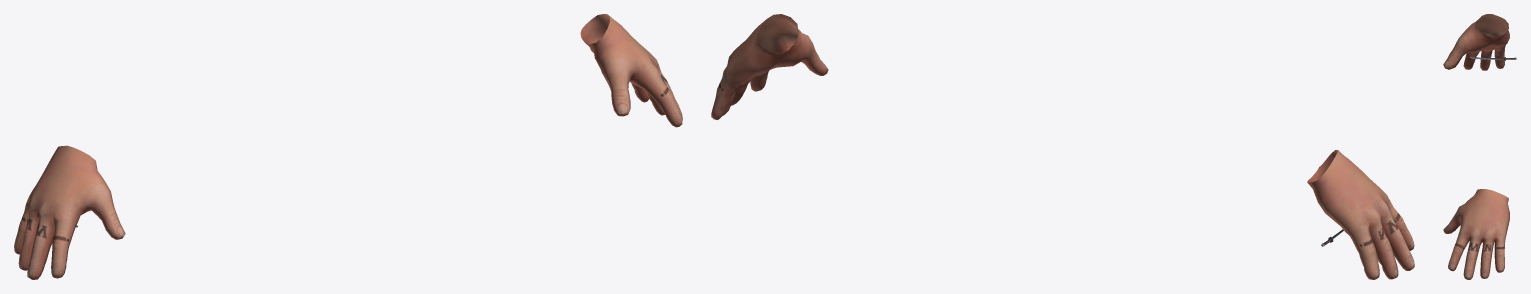
The model's file is Model012_weapons.glb.
The picture shows the model from 3 angles, left to right: view 1: azimuth 30°, elevation 25°; view 2: azimuth 150°, elevation 25°; view 3: azimuth 270°, elevation 25°; orthographic projection. The views are drawn at different scales.
Visible parts, largest first — view 1: 0088_Model012_6_LM-sword02_0.1_16_16_material0088_0; view 2: 0088_Model012_6_LM-sword02_0.1_16_16_material0088_0; view 3: 0088_Model012_6_LM-sword02_0.1_16_16_material0088_0, 0087_Model012_6_LM-sword02_0.1_16_16_material0087_0.
Part boxes in pixels (x1,y1,x2,y2): 0088_Model012_6_LM-sword02_0.1_16_16_material0088_0: (14, 14, 682, 279); 0088_Model012_6_LM-sword02_0.1_16_16_material0088_0: (711, 14, 1414, 279); 0088_Model012_6_LM-sword02_0.1_16_16_material0088_0: (1443, 14, 1509, 279); 0087_Model012_6_LM-sword02_0.1_16_16_material0087_0: (1470, 56, 1516, 60).
Size of the model in its own units: 1.38 by 0.2193 by 0.2004.
2 materials, 2 textured.
